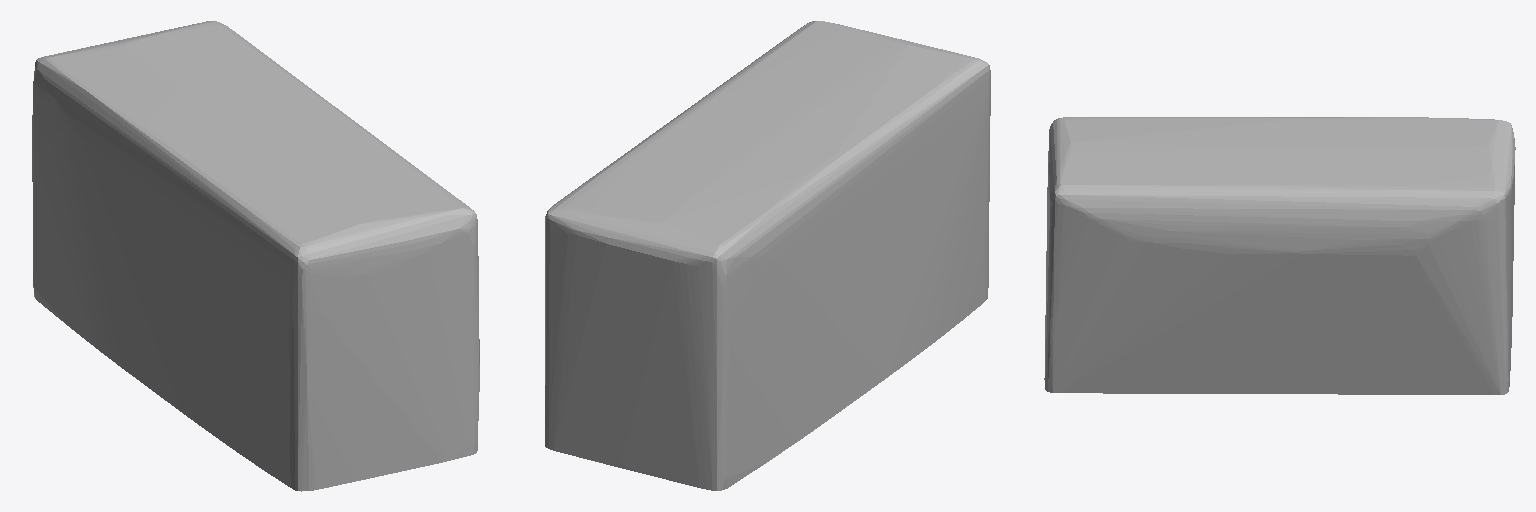
robot.urdf — root:
<robot name="root">
  <link name="link_coacd_convex_piece_0">
    <inertial>
      <origin xyz="0 0 0" rpy="0 0 0"/>
      <inertia ixx="5.78E-06" ixy="-8.24E-09" ixz="1.10E-07" iyy="4.33E-06" iyz="-7.81E-09" izz="2.04E-06"/>
    </inertial>
    <visual>
      <origin xyz="0 0 0" rpy="0 0 0"/>
      <geometry>
        <mesh filename="coacd_convex_piece_0.obj" scale="1.0000E+00 1.0000E+00 1.0000E+00"/>
      </geometry>
      <material name="">
        <color rgba="7.50E-01 7.50E-01 7.50E-01 1"/>
      </material>
    </visual>
    <collision>
      <origin xyz="0 0 0" rpy="0 0 0"/>
      <geometry>
        <mesh filename="coacd_convex_piece_0.obj" scale="1.0000E+00 1.0000E+00 1.0000E+00"/>
      </geometry>
    </collision>
  </link>
  <link name="link_coacd_convex_piece_1">
    <inertial>
      <origin xyz="0 0 0" rpy="0 0 0"/>
      <inertia ixx="7.24E-06" ixy="1.02E-08" ixz="-2.88E-08" iyy="4.80E-06" iyz="3.58E-09" izz="3.50E-06"/>
    </inertial>
    <visual>
      <origin xyz="0 0 0" rpy="0 0 0"/>
      <geometry>
        <mesh filename="coacd_convex_piece_1.obj" scale="1.0000E+00 1.0000E+00 1.0000E+00"/>
      </geometry>
      <material name="">
        <color rgba="7.50E-01 7.50E-01 7.50E-01 1"/>
      </material>
    </visual>
    <collision>
      <origin xyz="0 0 0" rpy="0 0 0"/>
      <geometry>
        <mesh filename="coacd_convex_piece_1.obj" scale="1.0000E+00 1.0000E+00 1.0000E+00"/>
      </geometry>
    </collision>
  </link>
  <joint name="link_coacd_convex_piece_1_joint" type="fixed">
    <origin xyz="0 0 0" rpy="0 0 0"/>
    <parent link="link_coacd_convex_piece_0"/>
    <child link="link_coacd_convex_piece_1"/>
  </joint>
</robot>

--- What the picture shows (computed from the rendered views, not written in the file) ---
Views: 3 orthographic renders of the robot side by side, from view 1: azimuth 30°, elevation 25°; view 2: azimuth 150°, elevation 25°; view 3: azimuth 270°, elevation 25°.
Robot: root — 2 links, 1 joints (1 fixed); root link link_coacd_convex_piece_0; default pose: all joints at 0.
Visible links, largest first — view 1: link_coacd_convex_piece_0; view 2: link_coacd_convex_piece_0; view 3: link_coacd_convex_piece_0.
Link boxes in pixels (x1,y1,x2,y2): link_coacd_convex_piece_0: (32, 21, 479, 491); link_coacd_convex_piece_0: (545, 21, 990, 490); link_coacd_convex_piece_0: (1044, 117, 1515, 394).
Size in the robot's own frame: 0.0708 by 0.1659 by 0.0804 metres.
1 mesh visuals loaded from 2 distinct referenced files (1 OBJ); not drawn: 1 (reference not matched to a file when rendering).